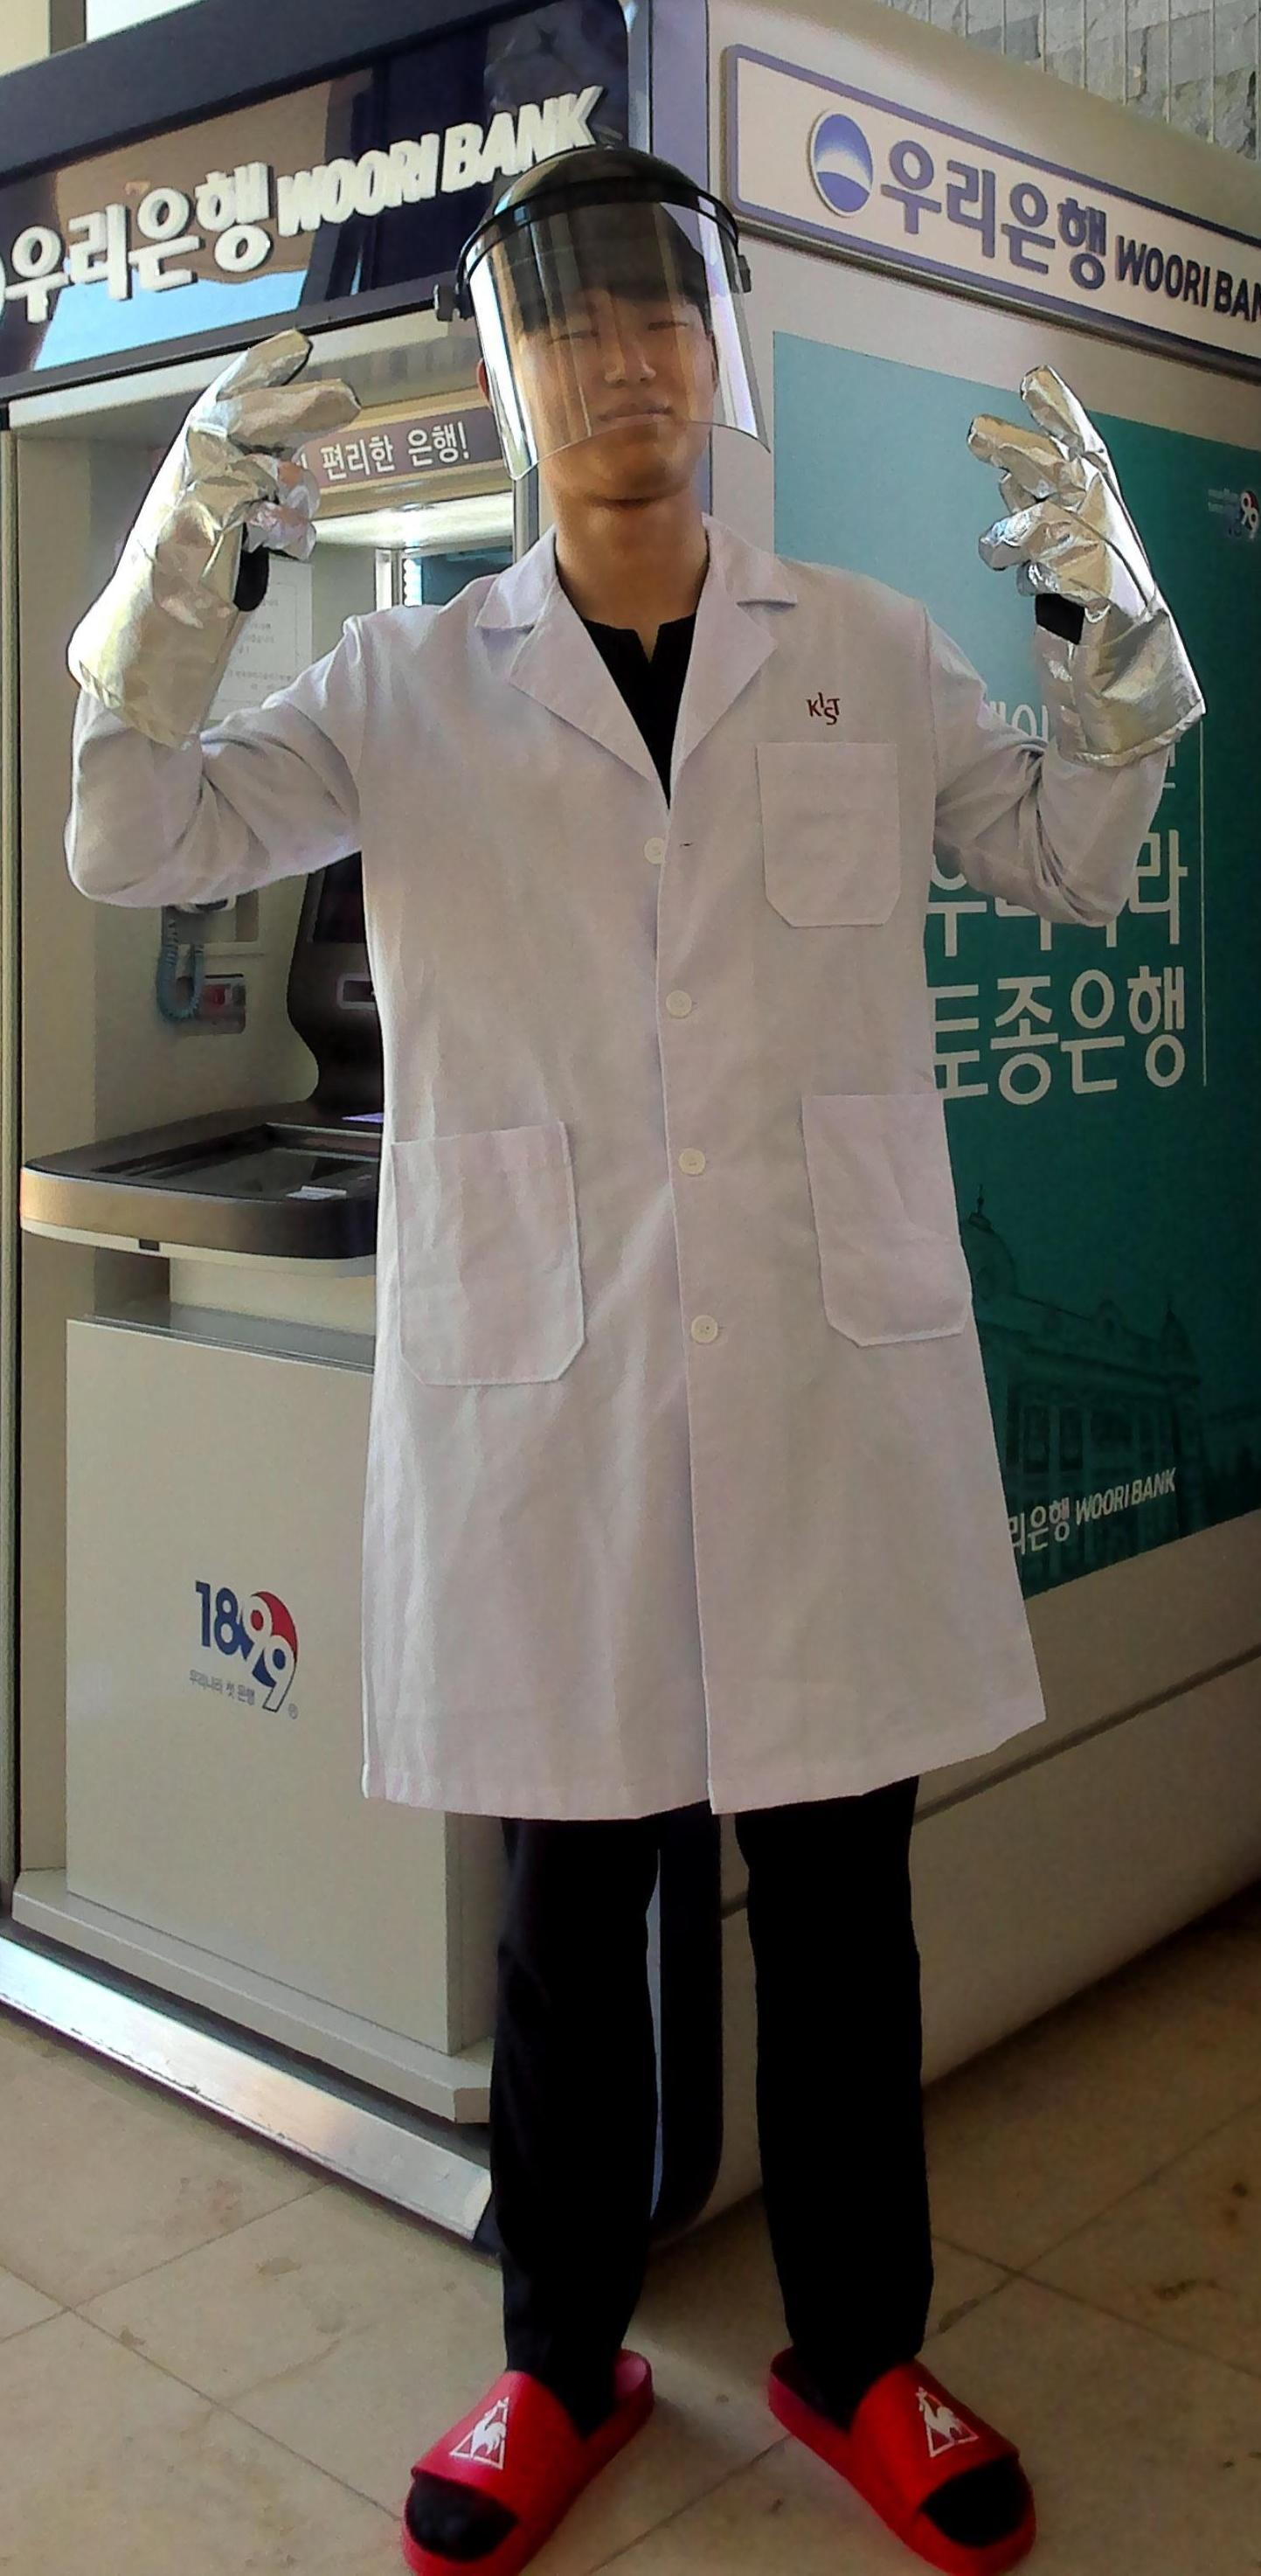lab_coat: (327, 582, 957, 1835)
